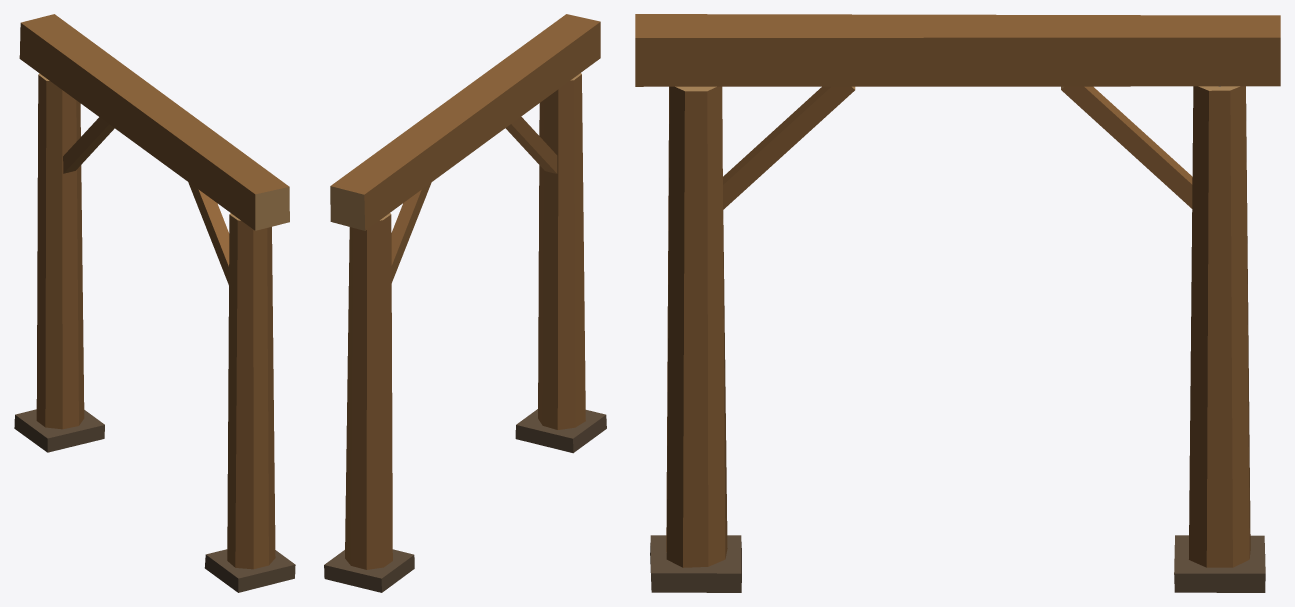
Rendered from mine-support.glb.
The picture shows the model from 3 angles, left to right: view 1: azimuth 30°, elevation 25°; view 2: azimuth 150°, elevation 25°; view 3: azimuth 270°, elevation 25°; orthographic projection. The views are drawn at different scales.
Parts seen in each view (by area): view 1: mine_support; view 2: mine_support; view 3: mine_support.
Part boxes in pixels (bbox=[...]): mine_support: bbox=[14, 14, 295, 592]; mine_support: bbox=[324, 14, 606, 592]; mine_support: bbox=[635, 14, 1280, 592].
Bounding box in the file's own units: 0.3018 × 1.99 × 2.12.
